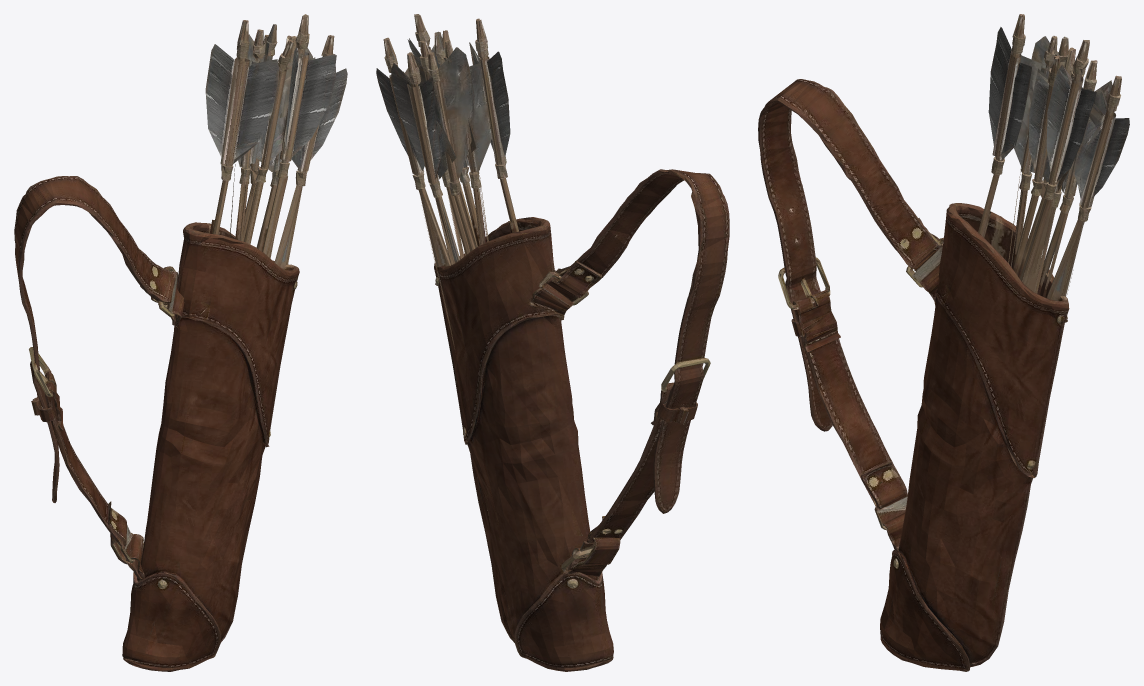
Rendered from ewm_quiver.glb.
3 views of the same model, side by side, from view 1: azimuth 30°, elevation 25°; view 2: azimuth 150°, elevation 25°; view 3: azimuth 330°, elevation 25° (orthographic). The views are drawn at different scales.
Visible parts, largest first — view 1: ewm_quiver; view 2: ewm_quiver; view 3: ewm_quiver.
Boxes of the visible parts, left/top/right/bottom form: ewm_quiver: left=14, top=14, right=347, bottom=671; ewm_quiver: left=376, top=14, right=729, bottom=671; ewm_quiver: left=758, top=14, right=1129, bottom=671.
Bounding box in the file's own units: 0.4447 × 0.78 × 0.0922.
1 material, 1 textured.
